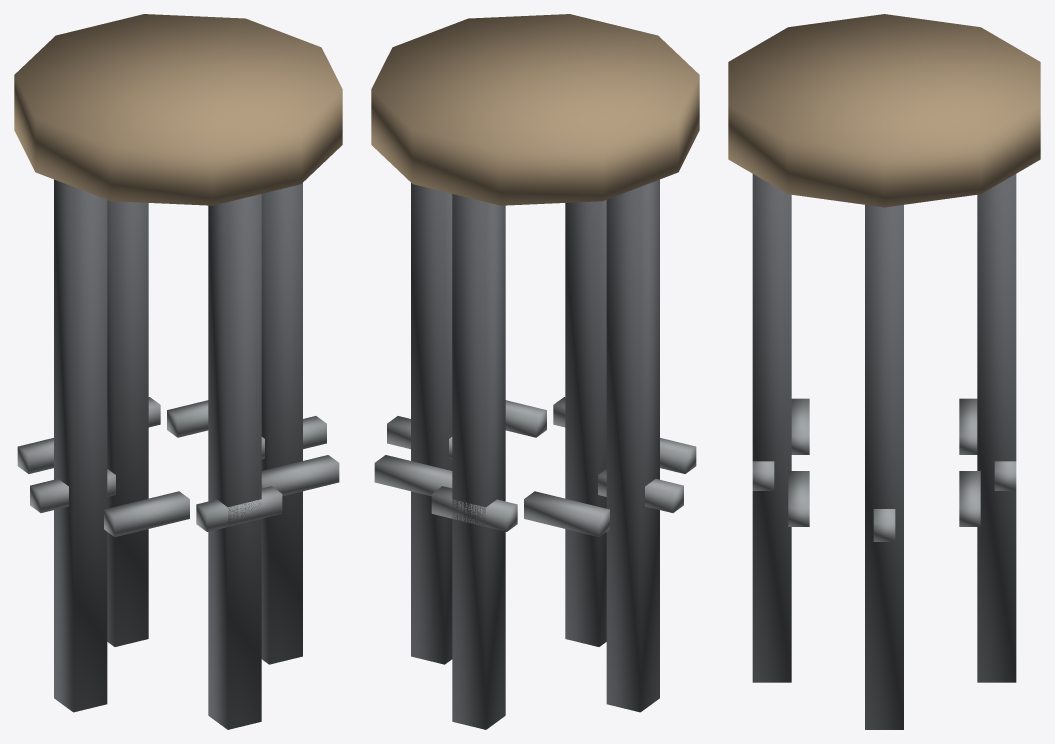
File: medical_rolling_stool.glb
3 renders of one model, left to right at view 1: azimuth 30°, elevation 25°; view 2: azimuth 150°, elevation 25°; view 3: azimuth 270°, elevation 25°, orthographic.
Visible parts, largest first — view 1: world; view 2: world; view 3: world.
Part boxes in pixels (bbox=[...]): world: bbox=[14, 14, 342, 729]; world: bbox=[371, 14, 699, 729]; world: bbox=[728, 14, 1040, 729].
Bounding box in the file's own units: 0.38 × 0.755 × 0.3614.
